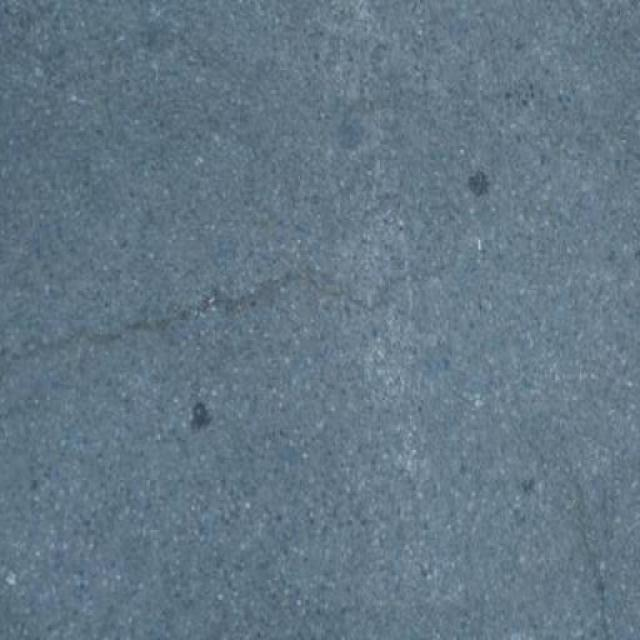Crack: (14, 241, 403, 394)
